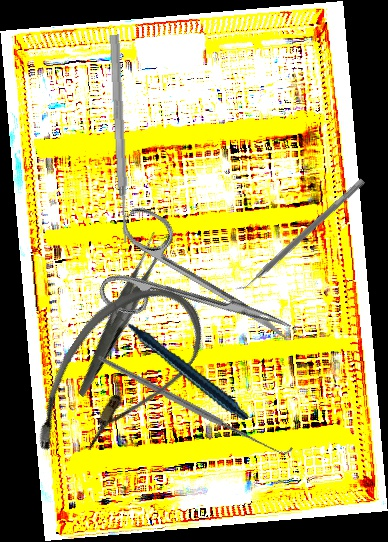Cannula: (14, 260, 220, 493)
Dressing Forceps: (35, 229, 204, 398)
Handpiece: (112, 278, 250, 445)
Hook Surgical: (95, 293, 295, 514)
Iris Scissors: (89, 203, 310, 382)
Pusher: (107, 34, 132, 244)
Spatula Surgical: (233, 172, 366, 298)
